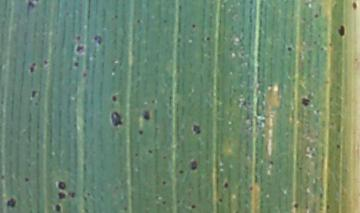tarspot: (109, 111, 123, 128), (300, 96, 312, 107), (191, 123, 202, 135), (142, 108, 151, 122), (6, 197, 17, 208), (93, 34, 103, 46), (56, 191, 67, 201), (56, 180, 67, 190), (30, 88, 40, 99), (337, 24, 345, 37), (53, 203, 63, 213), (75, 44, 85, 54), (67, 190, 77, 200), (189, 159, 198, 170), (27, 1, 38, 9), (29, 61, 36, 73), (177, 168, 186, 176), (248, 184, 255, 194), (81, 71, 89, 79), (134, 17, 142, 25), (161, 17, 169, 25), (149, 98, 157, 106), (80, 205, 88, 213), (110, 94, 117, 103), (137, 128, 144, 137), (351, 1, 357, 11), (292, 202, 299, 210), (222, 181, 229, 189), (133, 150, 140, 158), (122, 205, 129, 213), (42, 57, 48, 66), (325, 203, 330, 213), (205, 35, 212, 42), (23, 175, 30, 182), (334, 142, 341, 149), (190, 203, 197, 210), (160, 179, 167, 186), (72, 60, 79, 67), (161, 154, 168, 161), (81, 195, 88, 202), (327, 41, 334, 48), (318, 46, 325, 53), (190, 22, 196, 30), (75, 34, 81, 42), (352, 56, 360, 62), (318, 191, 323, 200), (217, 197, 224, 203), (147, 148, 153, 155), (161, 199, 167, 206), (268, 159, 274, 166), (297, 165, 304, 171), (312, 39, 318, 46), (113, 13, 118, 21), (286, 46, 292, 52), (85, 191, 91, 197), (313, 13, 318, 19), (248, 1, 254, 6)
